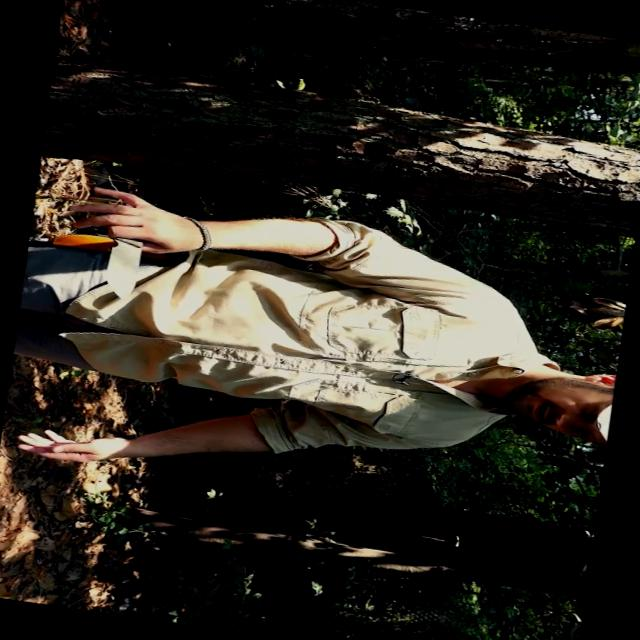knife: (86, 194, 155, 308)
